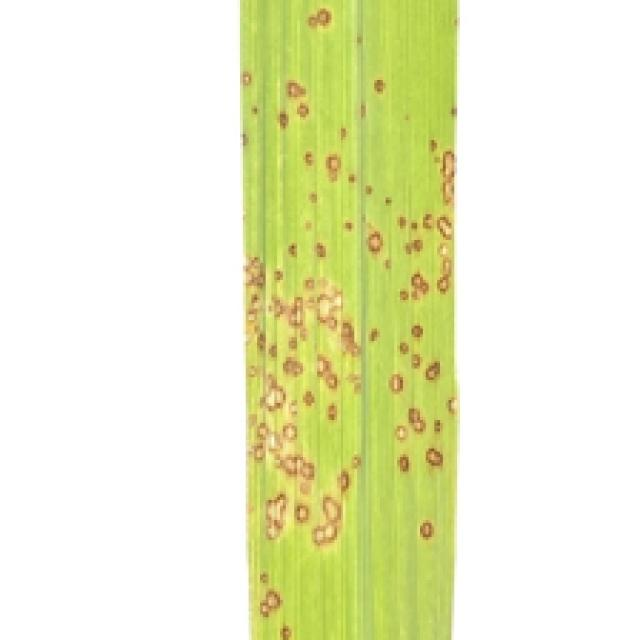Rice___Brown_Spot: (239, 0, 463, 637)
